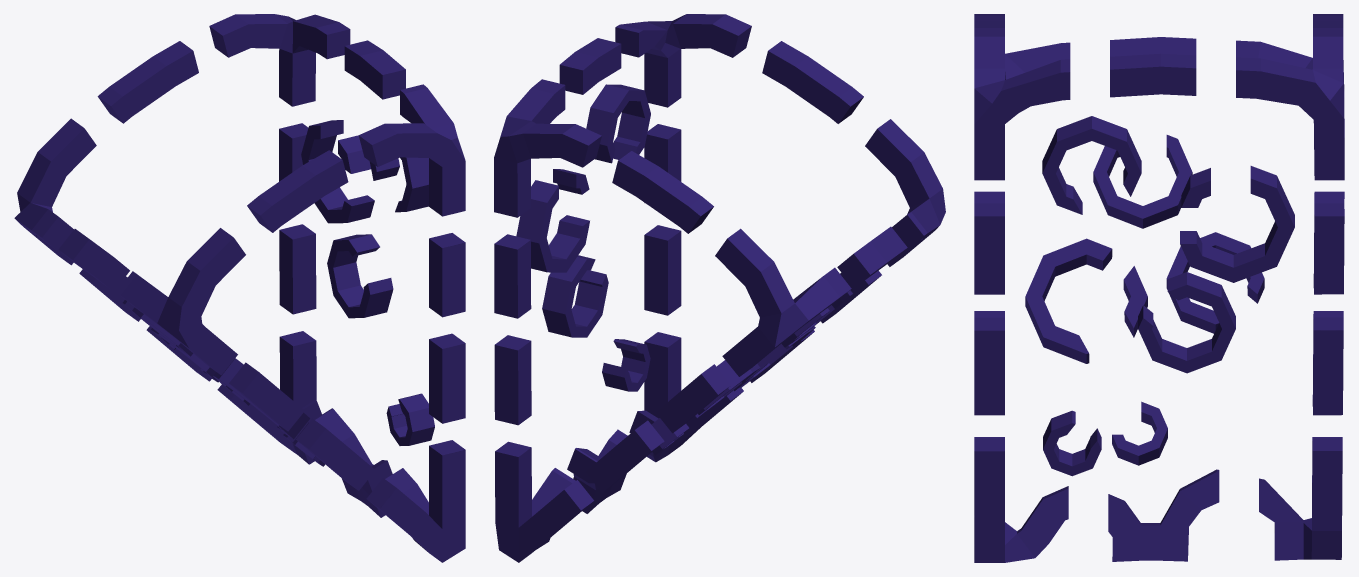
The model's file is GoJustGo.gltf.
3 views of the same model, side by side, from view 1: azimuth 30°, elevation 25°; view 2: azimuth 150°, elevation 25°; view 3: azimuth 270°, elevation 25° (orthographic). The views are drawn at different scales.
Parts seen in each view (by area): view 1: Cube.007; view 2: Cube.007; view 3: Cube.007.
Part boxes in pixels (<box>): Cube.007: <box>14,14,465,562</box>; Cube.007: <box>494,14,945,562</box>; Cube.007: <box>974,14,1344,562</box>.
Bounding box in the file's own units: 0.7301 × 1 × 0.6654.
Materials: 1 (1 with a texture image).
